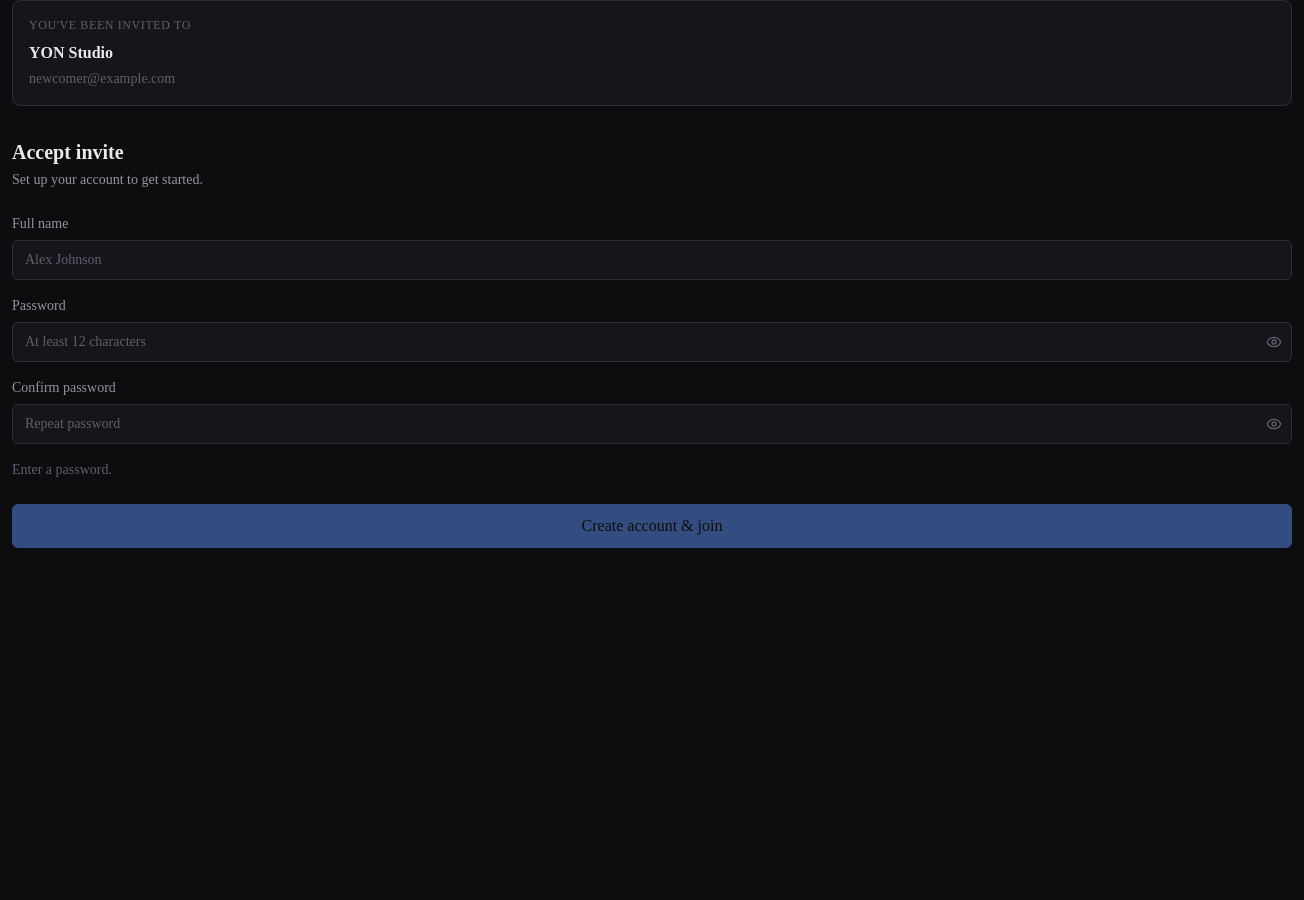
Test case: a blocked submit is never silent › says what is missing while the password is too short
Type "Ab3$xKm9" into the password field labelled "Password" at [652, 342], box left=12, top=322, right=1292, bottom=362
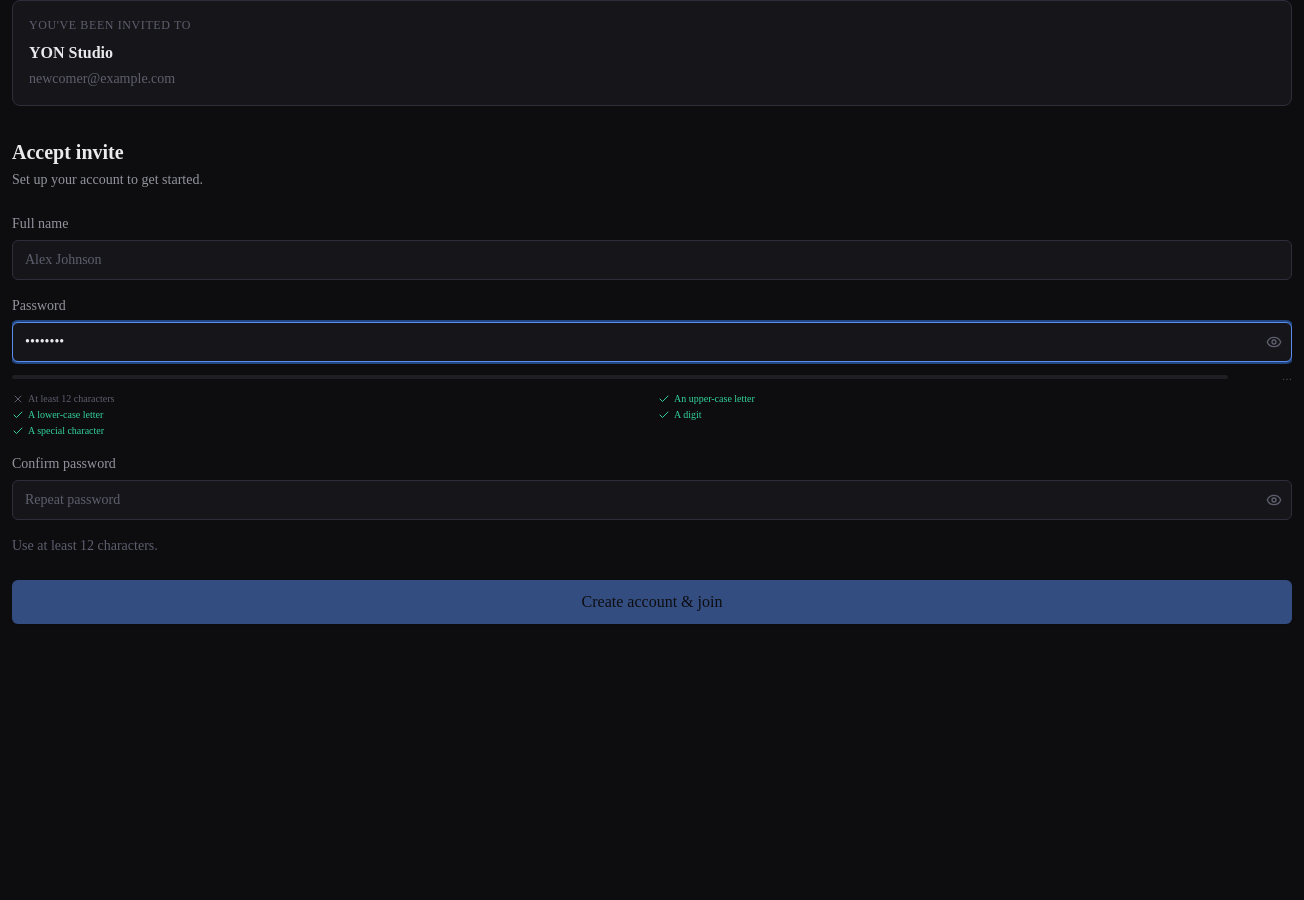
Check: the button "Create account & join" is disabled, box left=12, top=580, right=1292, bottom=624
Check: the message with test id "submit-block-reason" shows "at least 12 characters", box left=12, top=538, right=158, bottom=553
